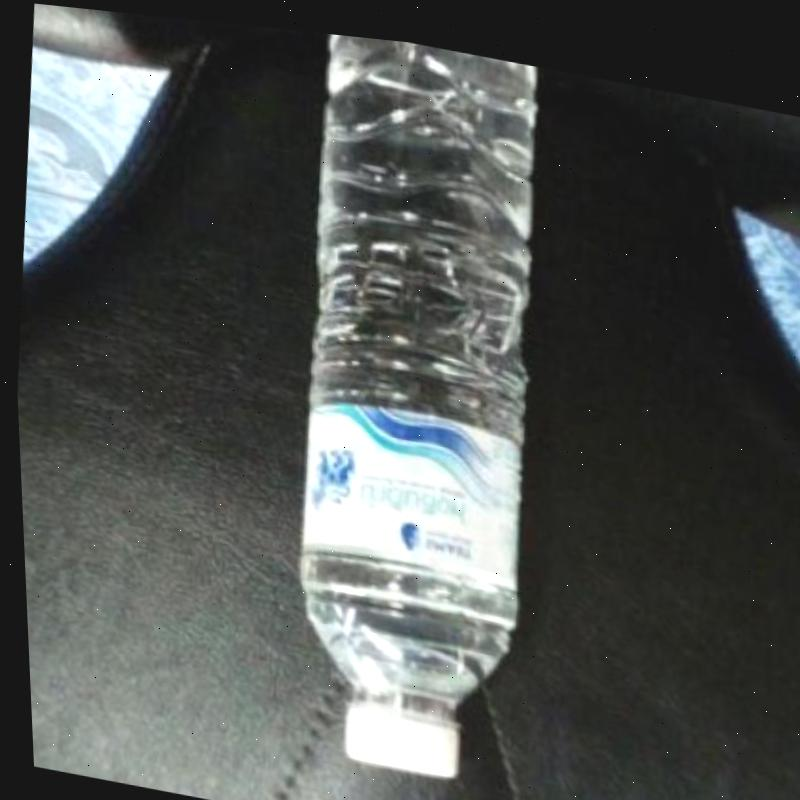botella: (261, 21, 566, 783)
